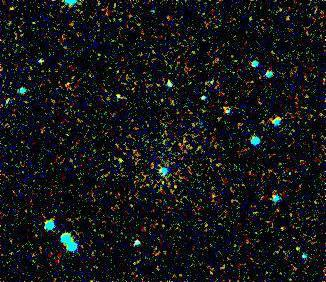star: (283, 234, 313, 264)
